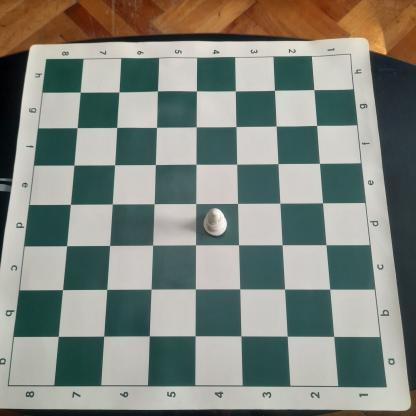white-bishop: (202, 207, 228, 238)
